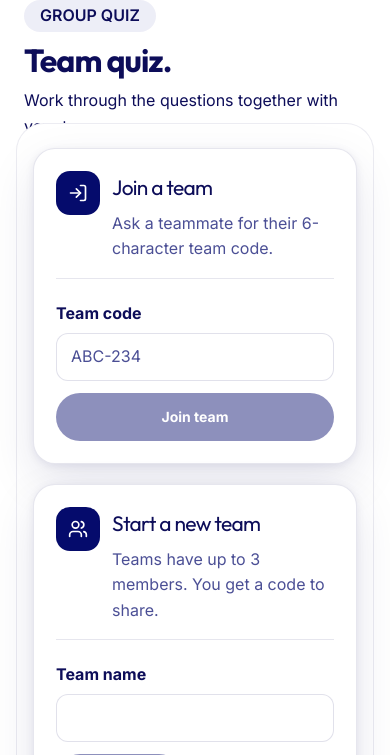
Test: group quiz page: joining a team › shows the server message when joining fails
Type "ABC234" into the field labelled "Team code".
click(195, 357); type("ABC234")  # box [56,333,334,381]
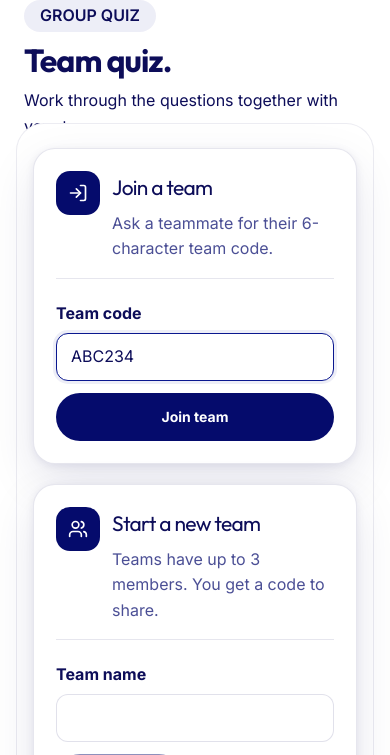
Click the button "Join team".
click(195, 417)  # box [56,393,334,441]
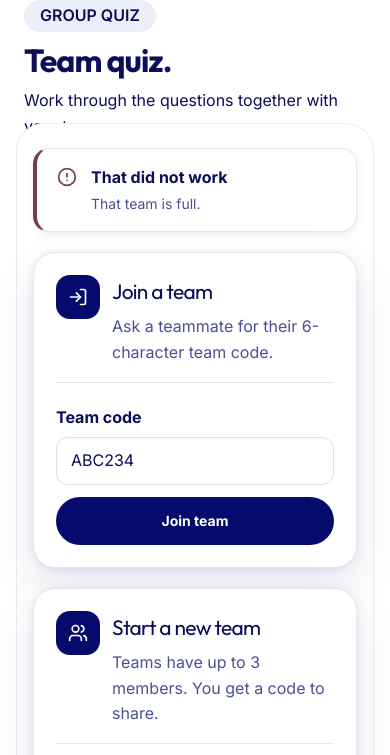
Now the text "That team is full." is shown, box [91,195,200,212]
